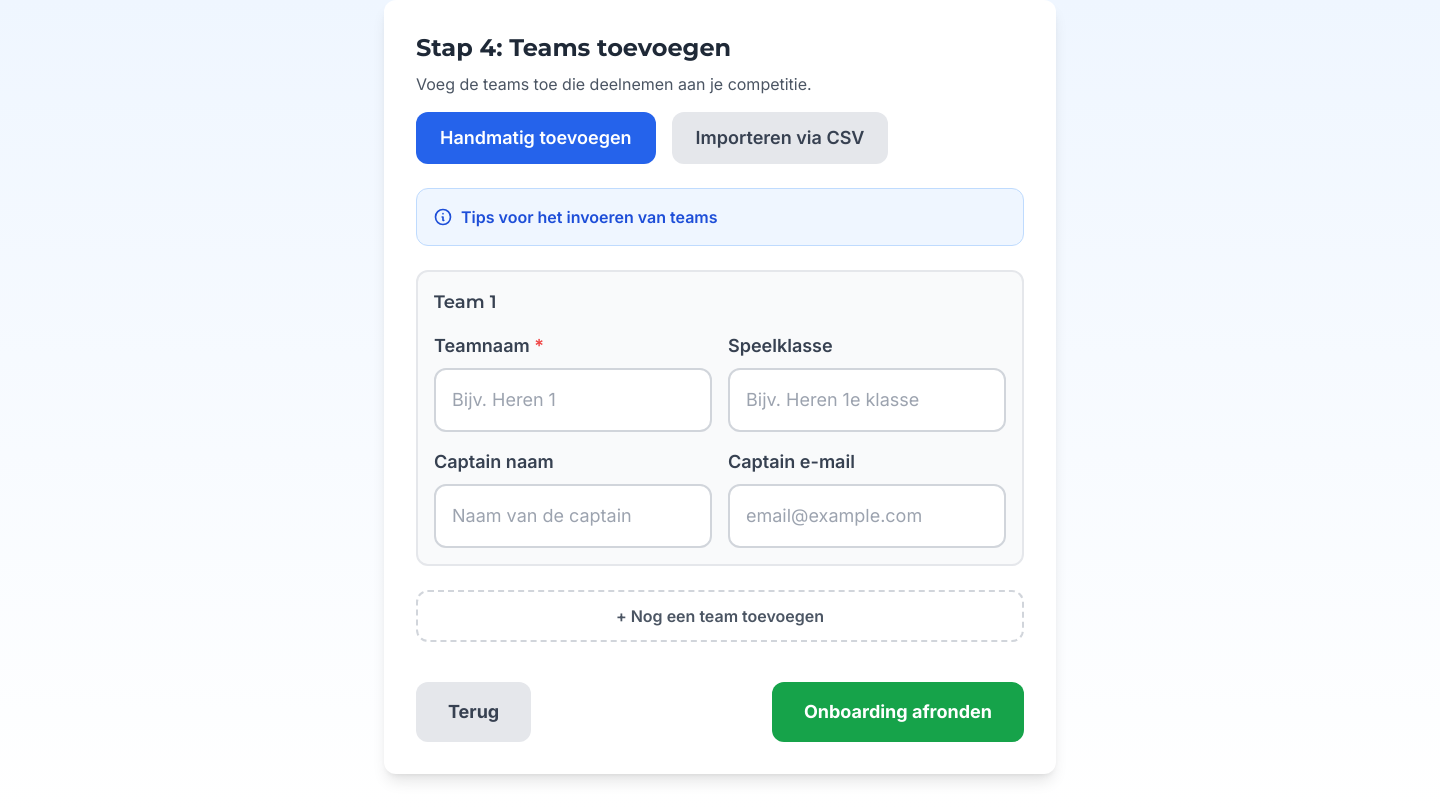
Test case: TeamsStep › Rendering › should render additional team inputs with associated labels when added
This screenshot has width=1440, height=810.
Click the button "+ Nog een team toevoegen". click: (720, 616)
box: [416, 590, 1024, 642]
(page scrolled)
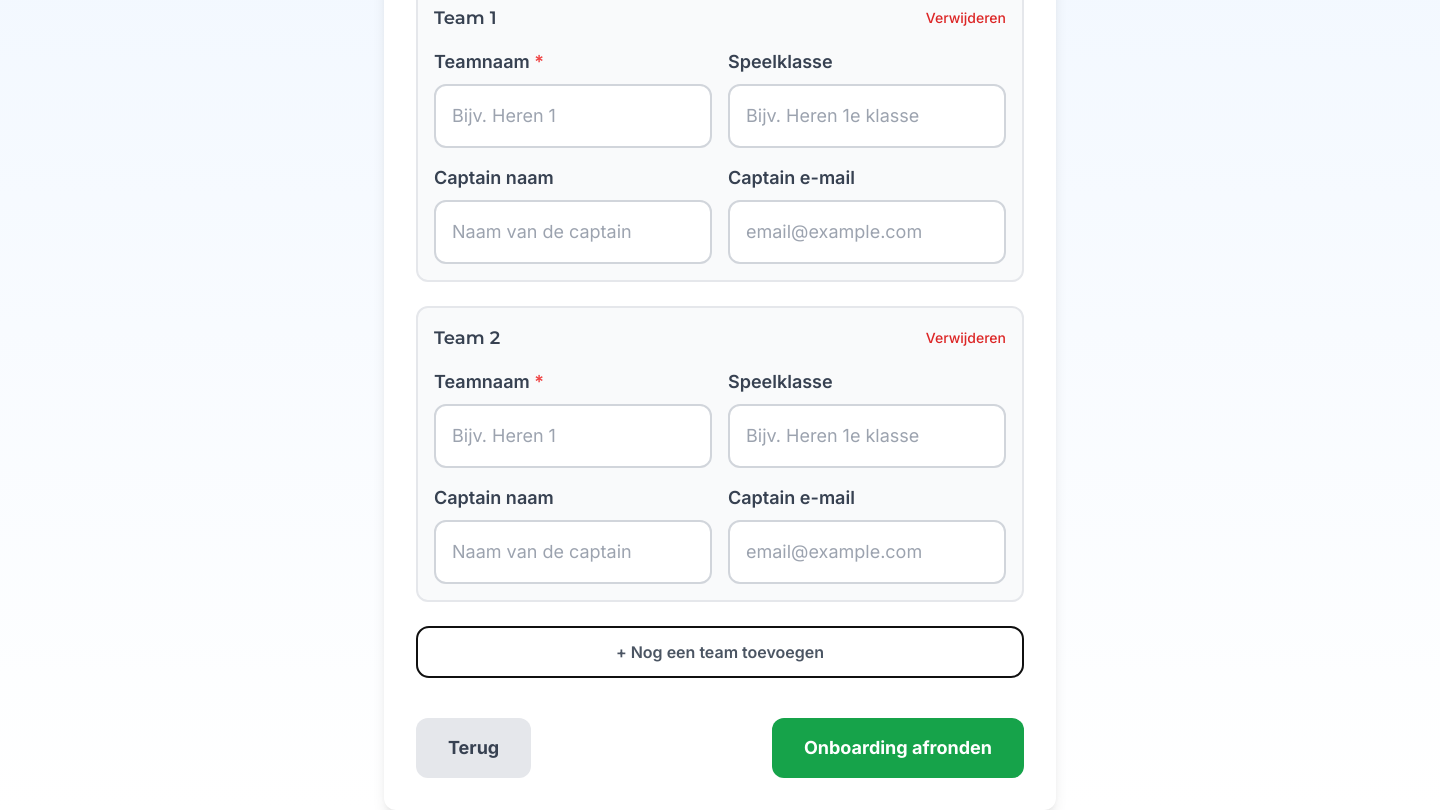
Check: the field with id "team_naam_1" is shown, box [434, 404, 712, 468]
Check: the field with id "team_speelklasse_1" is shown, box [728, 404, 1006, 468]
Check: the field with id "team_captain_naam_1" is shown, box [434, 520, 712, 584]
